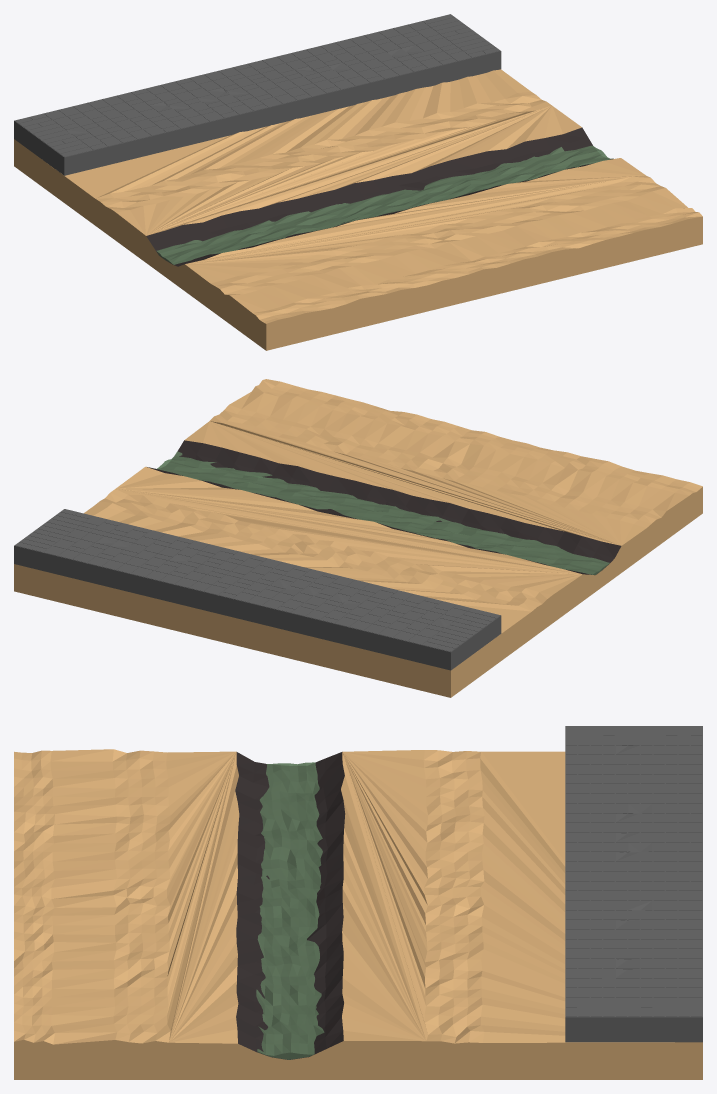
The picture shows the model from 3 angles, top to bottom: view 1: azimuth 30°, elevation 25°; view 2: azimuth 150°, elevation 25°; view 3: azimuth 270°, elevation 25°; orthographic projection. The views are drawn at different scales.
Visible parts, largest first — view 1: Base; view 2: Base; view 3: Base.
Part boxes in pixels (x1,y1,x2,y2): Base: [14, 14, 702, 350]; Base: [14, 379, 702, 697]; Base: [14, 726, 702, 1079].
Size of the model in its own units: 10003 by 1005 by 9998.
